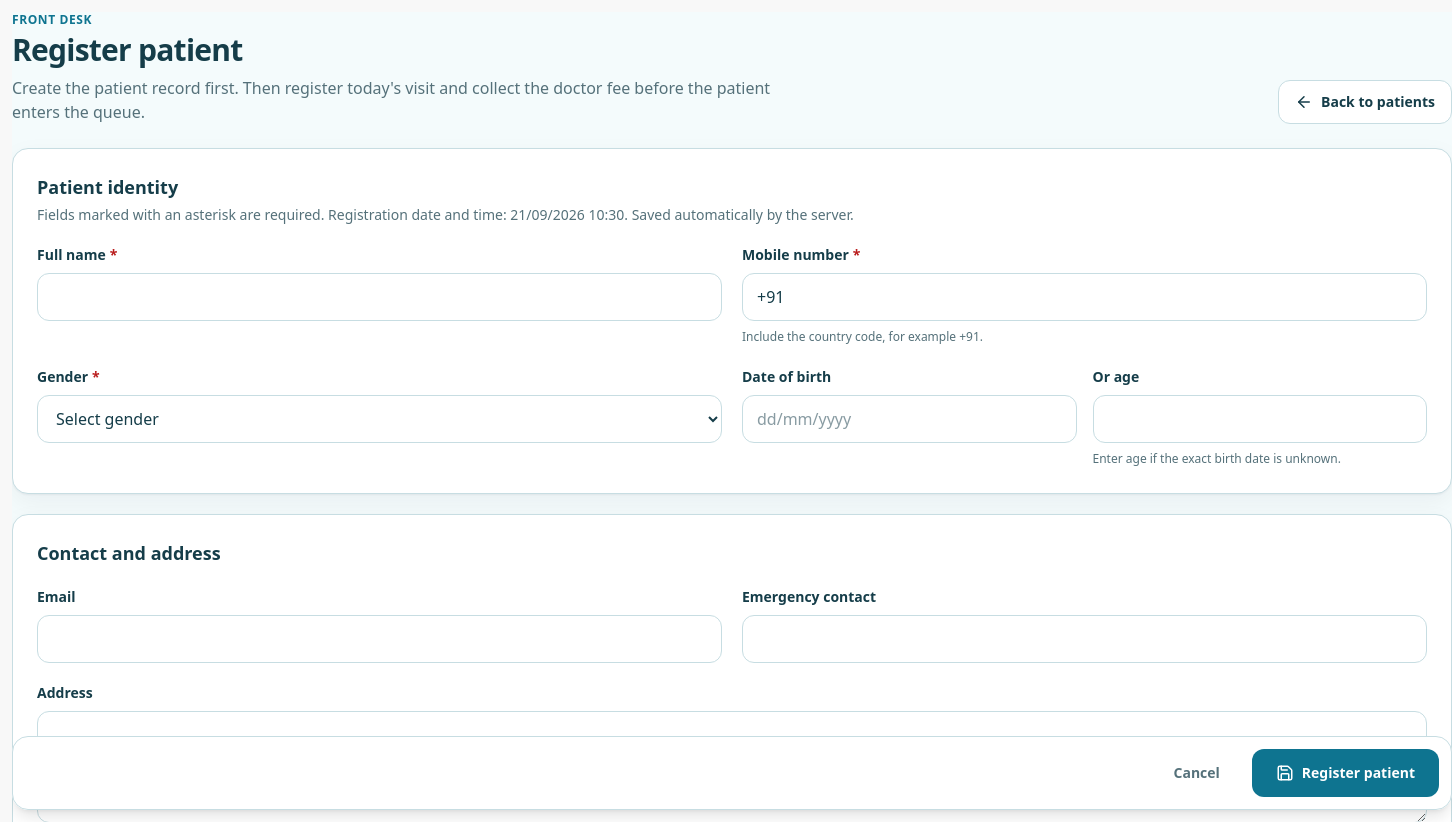
patient registration age calculation › adds DOB separators as digits are entered
Step 1. Type "12" into the field labelled "Date of birth" → point(909, 419), box x1=742 y1=395 x2=1076 y2=443
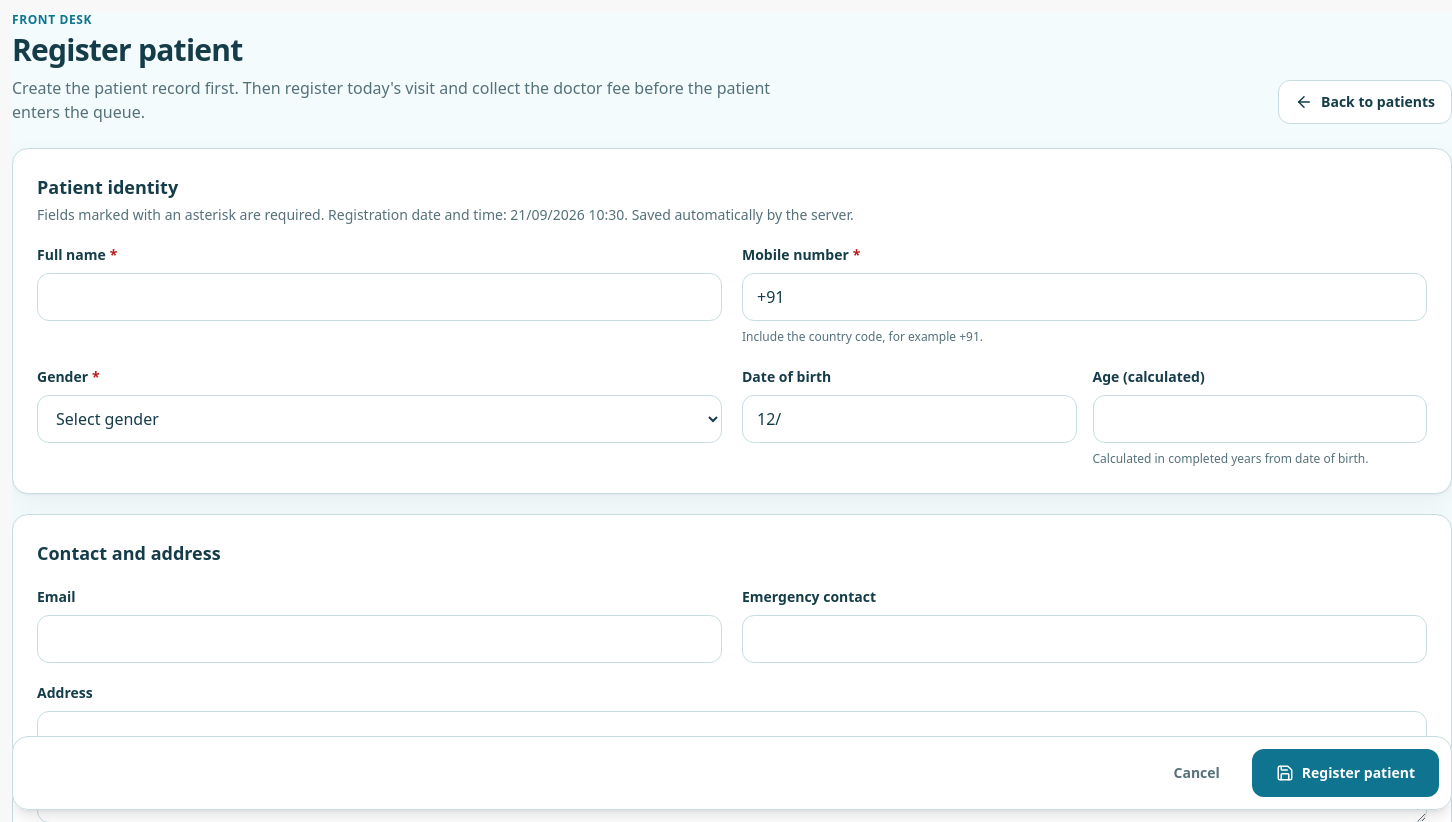
Expected: the field labelled "Date of birth" holds "12/"
Step 2. Replace the text in the field labelled "Date of birth" with "12/09" → point(909, 419), box x1=742 y1=395 x2=1076 y2=443
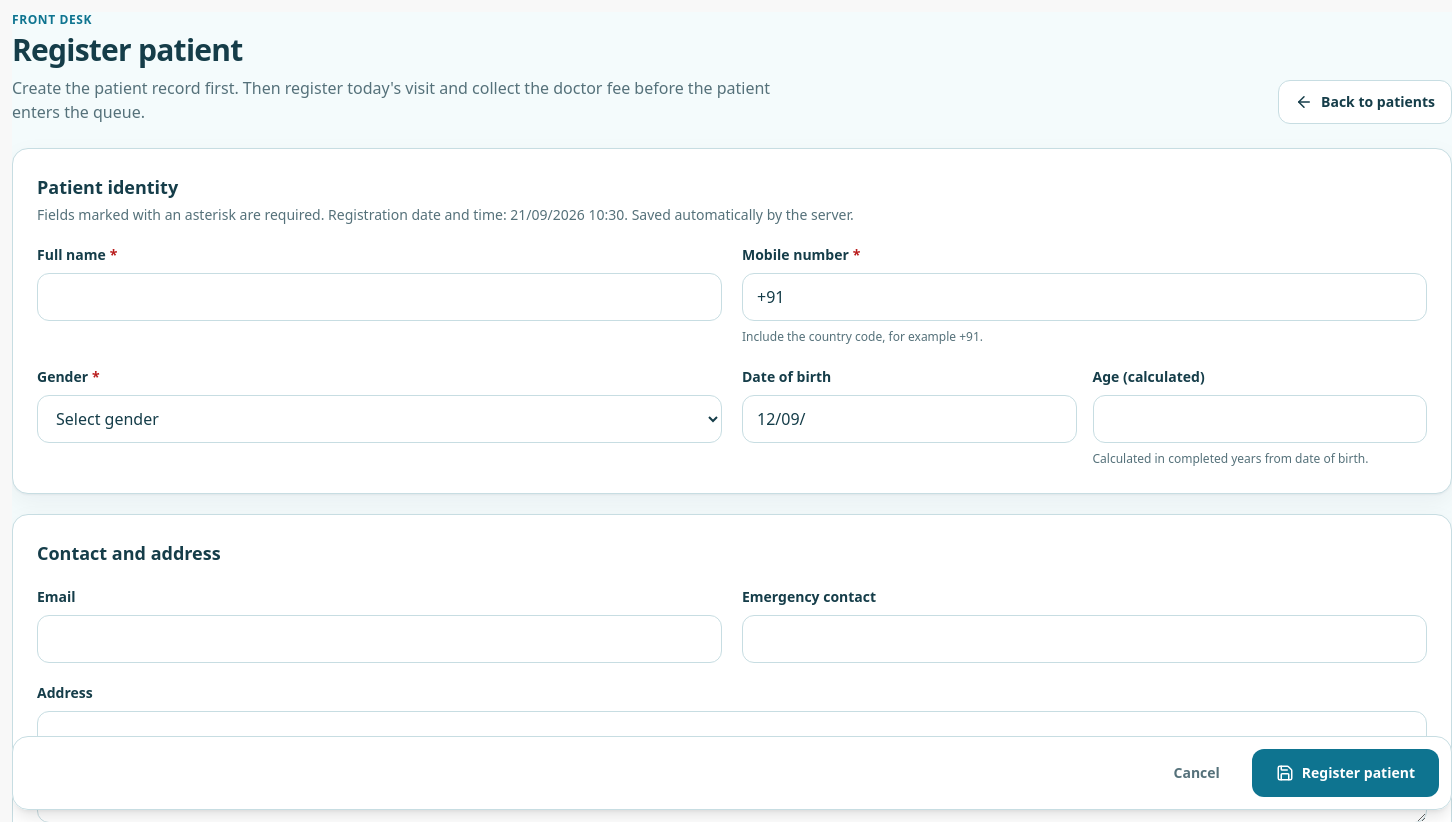
Expected: the field labelled "Date of birth" holds "12/09/", x1=742 y1=395 x2=1076 y2=443
